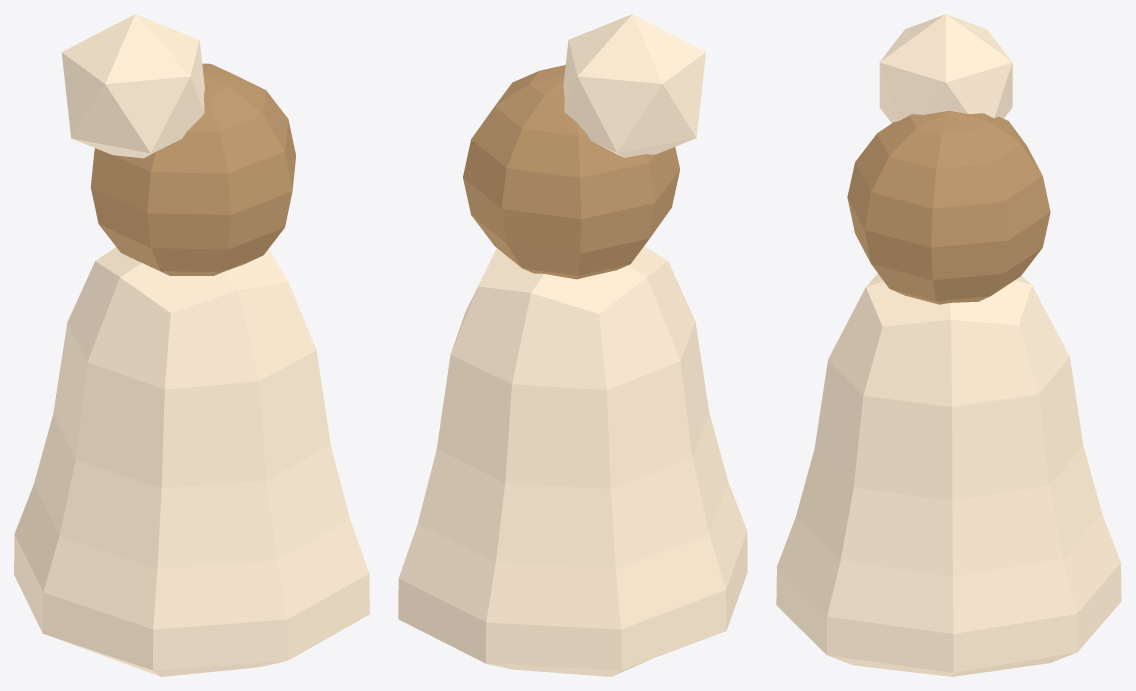
Rendered from widow.glb.
The picture shows the model from 3 angles, left to right: view 1: azimuth 30°, elevation 25°; view 2: azimuth 150°, elevation 25°; view 3: azimuth 270°, elevation 25°; orthographic projection. The views are drawn at different scales.
Visible parts, largest first — view 1: Cube.051, Sphere.013, Icosphere.093; view 2: Cube.051, Sphere.013, Icosphere.093; view 3: Cube.051, Sphere.013, Icosphere.093.
Boxes of the visible parts, x1,y1,x2,y2 form: Cube.051: (14,247,369,676); Sphere.013: (90,63,296,275); Icosphere.093: (61,14,204,158); Cube.051: (398,246,747,676); Sphere.013: (463,65,680,279); Icosphere.093: (563,14,705,157); Cube.051: (776,273,1121,676); Sphere.013: (847,111,1050,304); Icosphere.093: (879,14,1012,122).
Bounding box in the file's own units: 0.0933 × 0.1857 × 0.0975.
